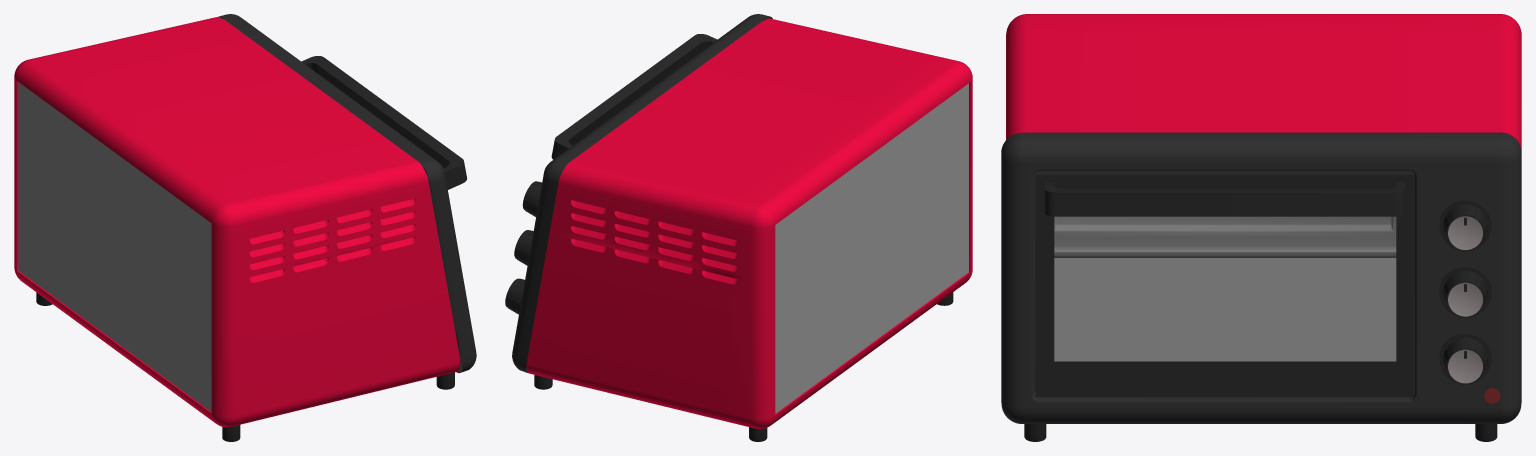
3 renders of one model, left to right at view 1: azimuth 30°, elevation 25°; view 2: azimuth 150°, elevation 25°; view 3: azimuth 270°, elevation 25°, orthographic. The views are drawn at different scales.
Visible parts, largest first — view 1: body_2, backplate_1, bumper_3, tutup_0, kaki_9; view 2: body_2, backplate_1, bumper_3, tutup_0, kaki_9, slider 1_11, slider 1.001_12, slider 1.002_13; view 3: tutup_0, body_2, bumper_3, inner oven_6, slider 1_11, slider 1.002_13, slider 1.001_12, Cylinder.001_5, kaki_9.
Boxes of the visible parts, x1,y1,x2,y2 form: body_2: [14, 17, 460, 427]; backplate_1: [18, 82, 211, 411]; bumper_3: [218, 14, 476, 373]; tutup_0: [301, 56, 467, 189]; kaki_9: [36, 292, 454, 441]; body_2: [526, 18, 972, 429]; backplate_1: [775, 83, 968, 413]; bumper_3: [512, 14, 772, 373]; tutup_0: [551, 34, 717, 159]; kaki_9: [534, 292, 953, 441]; slider 1_11: [505, 278, 524, 314]; slider 1.001_12: [514, 230, 533, 265]; slider 1.002_13: [522, 181, 541, 216]; tutup_0: [1035, 171, 1413, 397]; body_2: [1006, 14, 1521, 149]; bumper_3: [1001, 132, 1521, 423]; inner oven_6: [1054, 216, 1396, 361]; slider 1_11: [1439, 333, 1491, 384]; slider 1.002_13: [1439, 200, 1491, 251]; slider 1.001_12: [1439, 266, 1491, 318]; Cylinder.001_5: [1054, 252, 1396, 257]; kaki_9: [1024, 424, 1497, 441].
Bounding box in the file's own units: 2.27 × 1.87 × 3.04.
